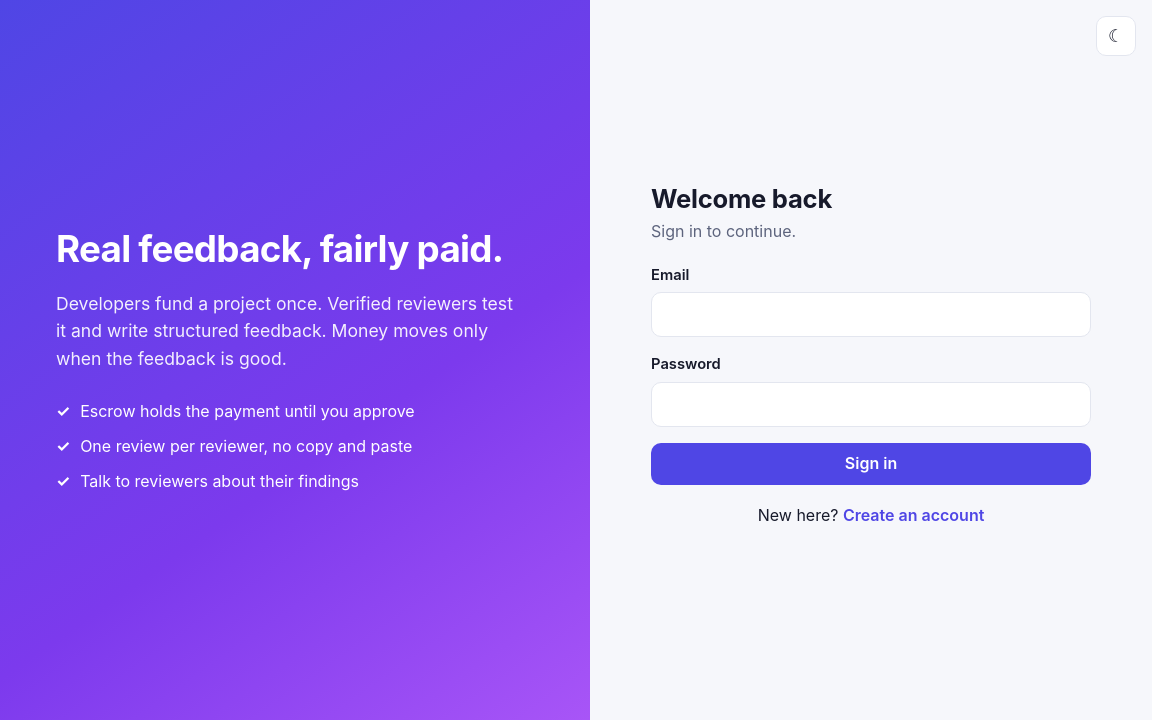
sign in › checks the password length when registering
Click the button "Create an account" at (914, 515), box [843,503,984,528]
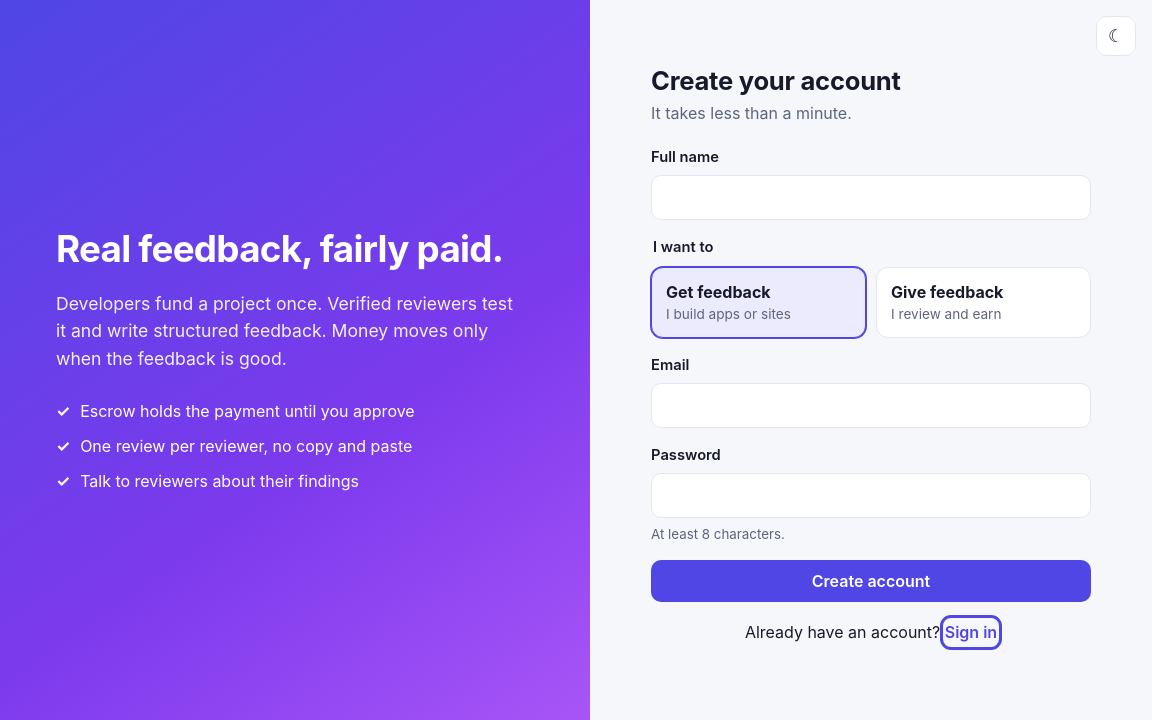
Type "Riya Reviewer" into the field labelled "Full name" at (871, 197), box [651,175,1091,220]
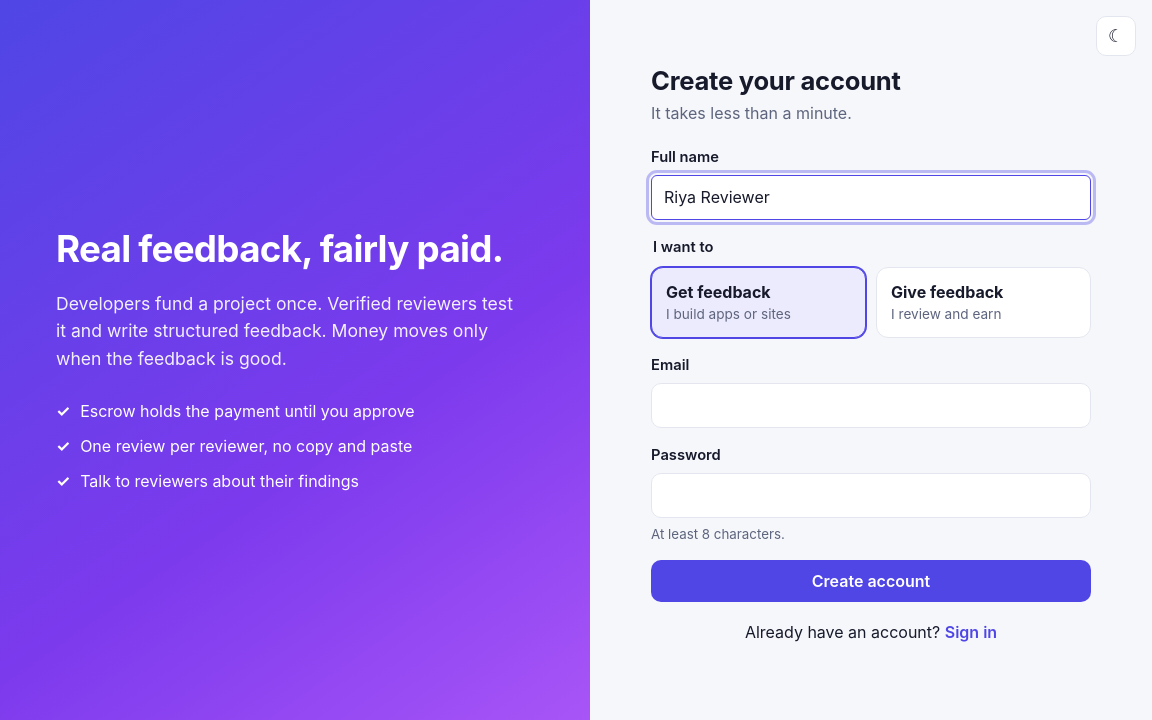
Type "riya@demo.dev" into the field labelled "Email" at (871, 406), box [651,383,1091,428]
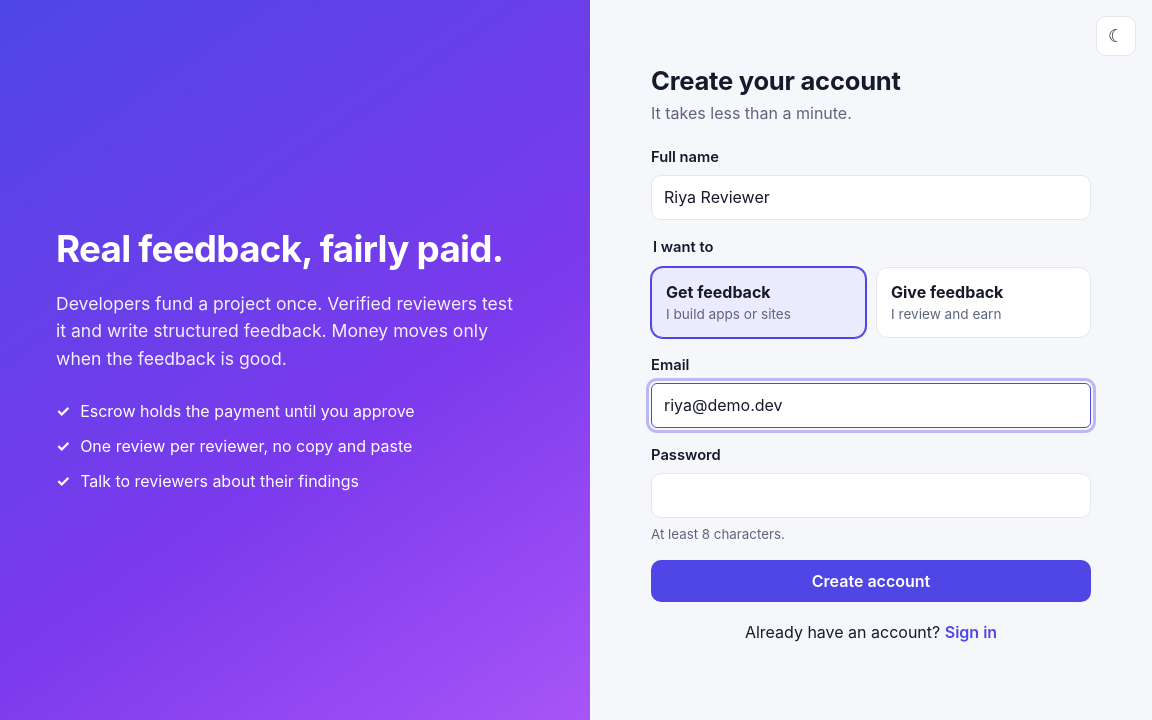
Type "short" into the password field labelled "Password" at (871, 495), box [651,473,1091,518]
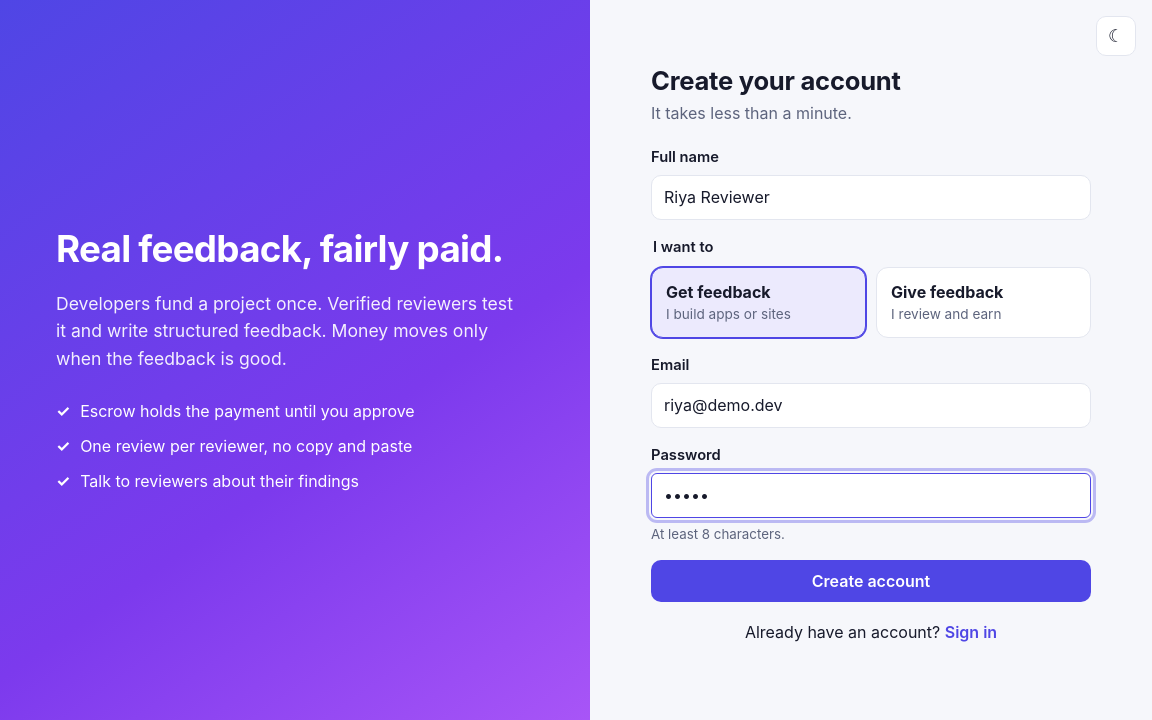
Click the button "Create account" at (871, 581), box [651,560,1091,602]
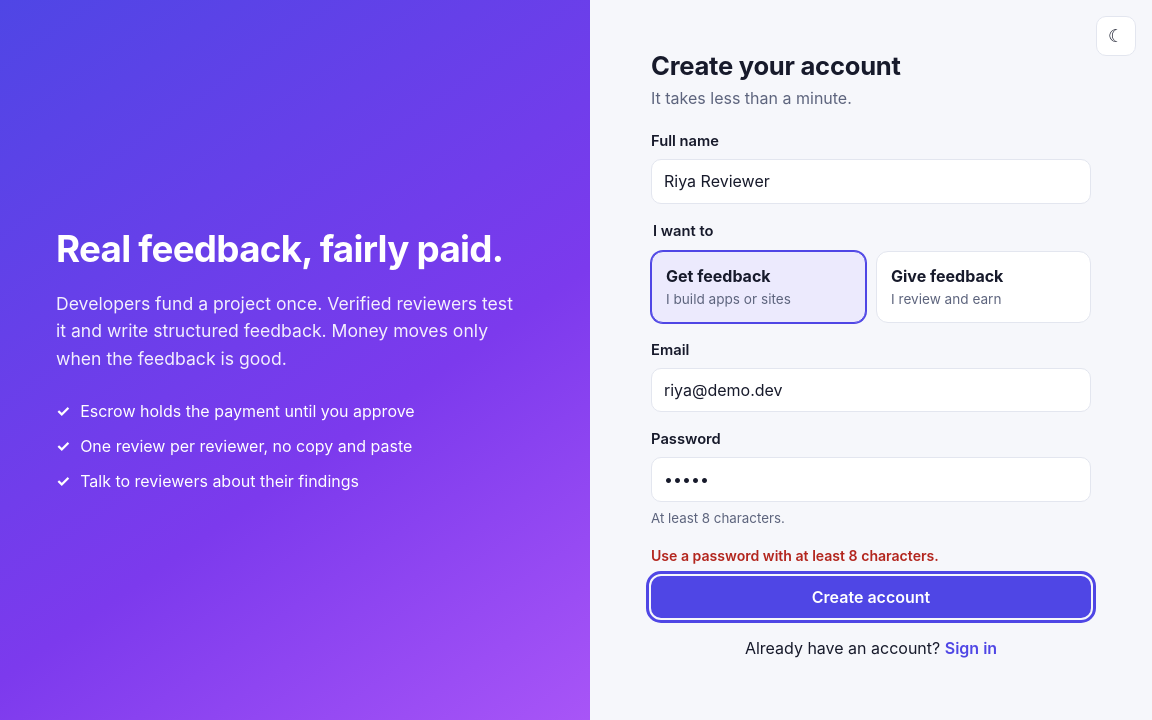
Check: the message shows "at least 8 characters", box [651,547,939,564]
